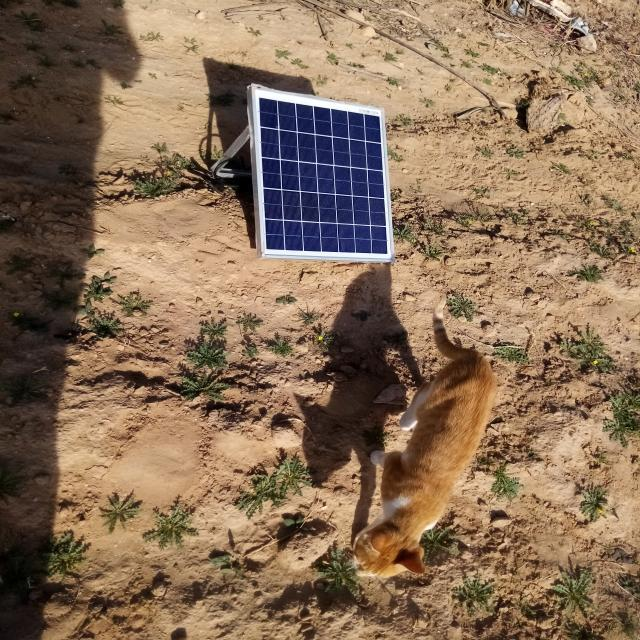no faulty: (254, 88, 390, 255)
